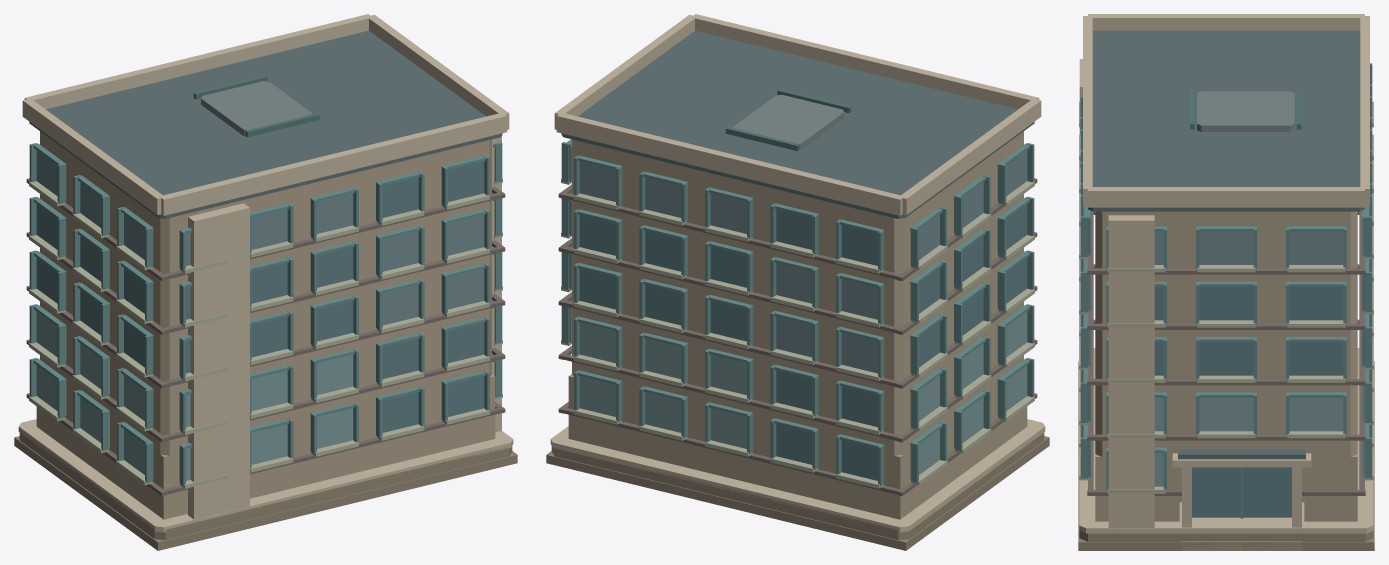
3 renders of one model, left to right at view 1: azimuth 30°, elevation 25°; view 2: azimuth 150°, elevation 25°; view 3: azimuth 270°, elevation 25°, orthographic. The views are drawn at different scales.
Parts seen in each view (by area): view 1: form, relief, glaze, glowing; view 2: form, relief, glaze, glowing; view 3: form, glaze, relief, glowing.
Part boxes in pixels (<box>): form: <box>14,14,517,550</box>; relief: <box>29,142,502,488</box>; glaze: <box>36,150,484,480</box>; glowing: <box>124,300,353,371</box>; form: <box>546,14,1049,550</box>; relief: <box>561,139,1034,488</box>; glaze: <box>569,146,1027,480</box>; glowing: <box>569,254,1027,341</box>; form: <box>1078,14,1374,550</box>; glaze: <box>1088,210,1364,517</box>; relief: <box>1079,63,1373,518</box>; glowing: <box>1289,342,1343,375</box>.
Bounding box in the file's own units: 13 × 12 × 9.
